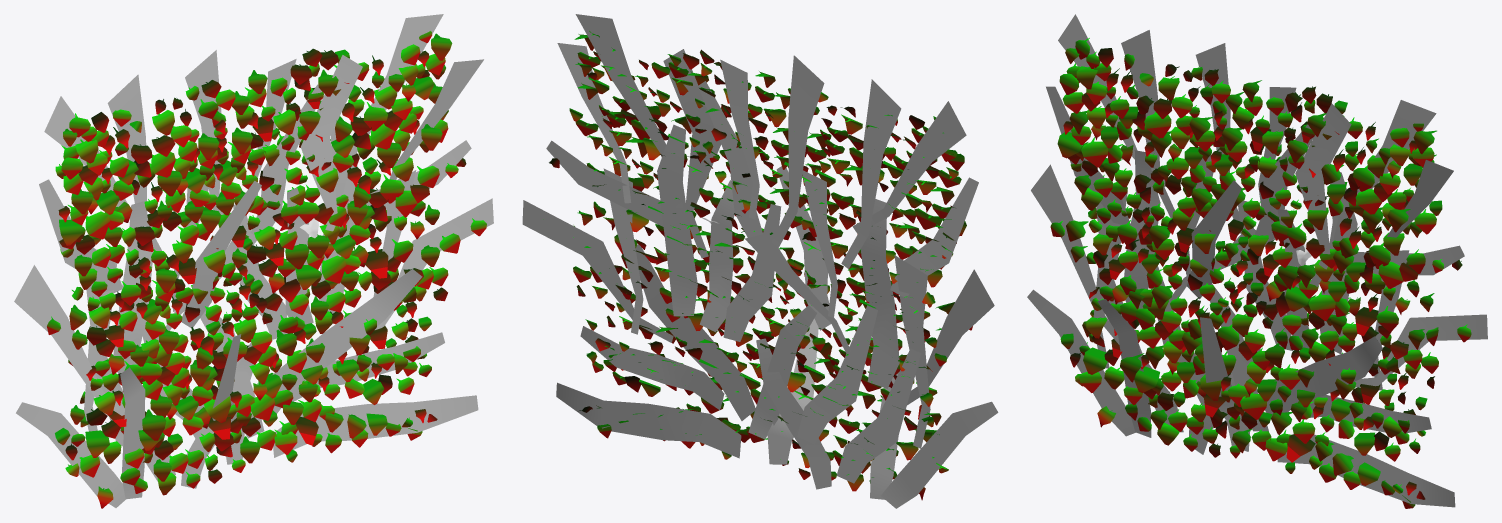
File: Var2_LOD1.fbx
3 views of the same model, side by side, from view 1: azimuth 30°, elevation 25°; view 2: azimuth 150°, elevation 25°; view 3: azimuth 330°, elevation 25° (orthographic). The views are drawn at different scales.
Visible parts, largest first — view 1: _e201_Var2_LOD1; view 2: _e201_Var2_LOD1; view 3: _e201_Var2_LOD1.
Boxes of the visible parts, x1,y1,x2,y2 form: _e201_Var2_LOD1: (14,14,493,508); _e201_Var2_LOD1: (522,14,998,508); _e201_Var2_LOD1: (1027,14,1487,508).
Size of the model in its own units: 123 by 107 by 11.79.
